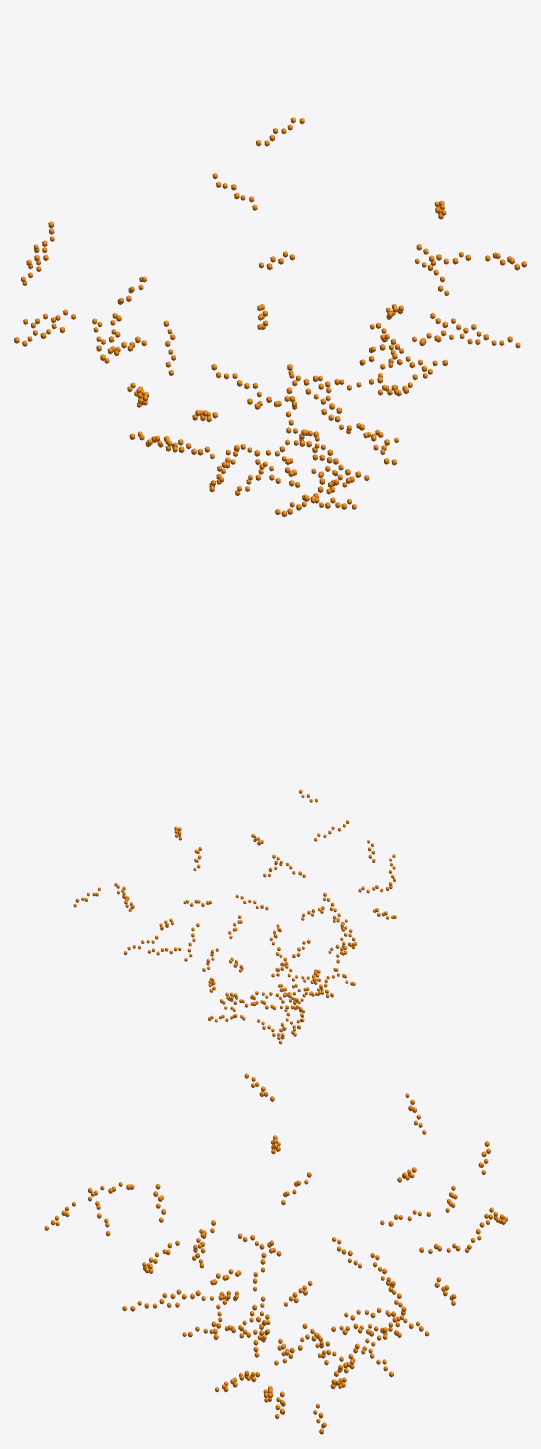
Rendered from seabuckthornfruit.glb.
The picture shows the model from 3 angles, top to bottom: view 1: azimuth 30°, elevation 25°; view 2: azimuth 150°, elevation 25°; view 3: azimuth 270°, elevation 25°; orthographic projection. The views are drawn at different scales.
Visible parts, largest first — view 1: seabuckthornfruit; view 2: seabuckthornfruit; view 3: seabuckthornfruit.
Boxes of the visible parts, bbox=[...] form: seabuckthornfruit: bbox=[14, 117, 526, 517]; seabuckthornfruit: bbox=[73, 789, 396, 1044]; seabuckthornfruit: bbox=[44, 1073, 507, 1434].
Bounding box in the file's own units: 1.46 × 1.11 × 1.44.
Materials: 1 (1 with a texture image).
